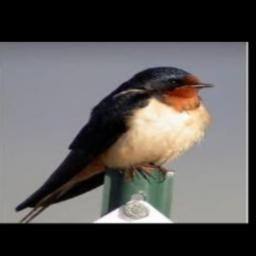Swallow: (14, 66, 215, 223)
